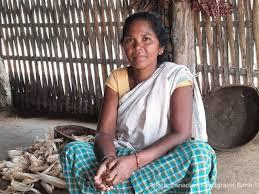Human: (70, 11, 229, 187)
